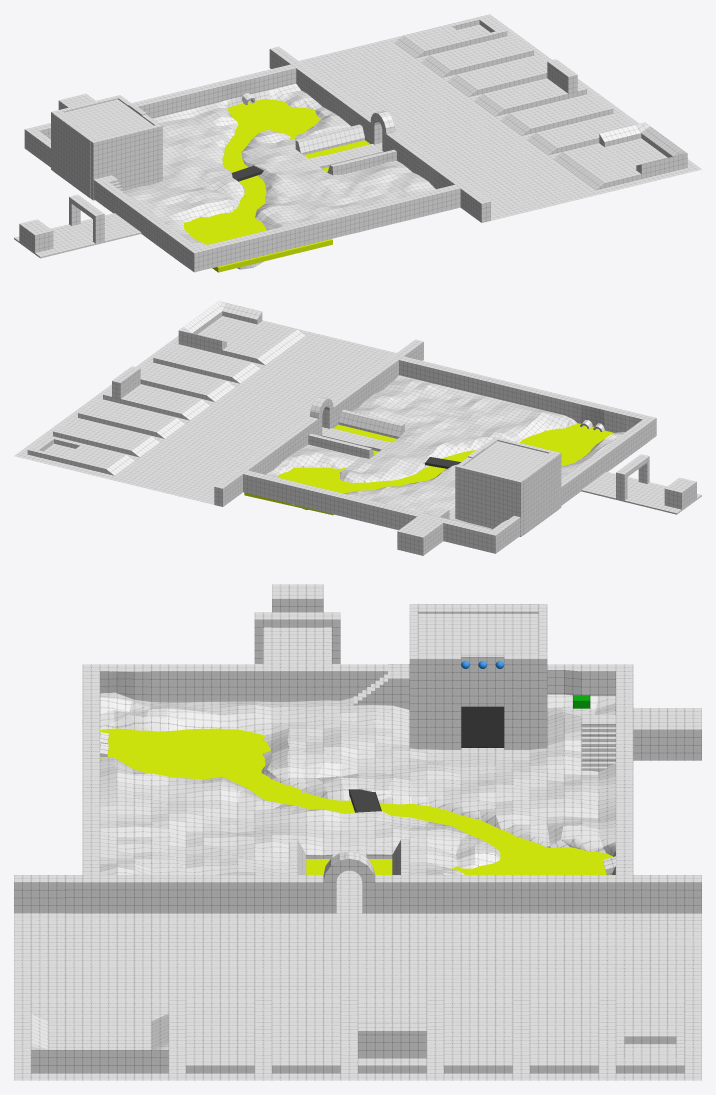
File: ExampleStage.fbx
3 renders of one model, top to bottom at view 1: azimuth 30°, elevation 25°; view 2: azimuth 150°, elevation 25°; view 3: azimuth 270°, elevation 25°, orthographic. The views are drawn at different scales.
Visible parts, largest first — view 1: Level, Block 1x1y1z (×4), Cube (×3); view 2: Level, Block 1x1y1z (×4), Cube (×3); view 3: Level, Block 1x1y1z (×7), Cube (×4), Stairs (×2), Arch.
Boxes of the visible parts, x1,y1,x2,y2 form: Level: (14,14,701,272); Block 1x1y1z (×4): (51,95,162,200); Cube (×3): (184,99,332,272); Level: (14,301,701,555); Block 1x1y1z (×4): (455,437,561,536); Cube (×3): (244,423,614,515); Level: (14,584,701,1080); Block 1x1y1z (×7): (409,604,547,749); Cube (×4): (100,706,612,874); Stairs (×2): (353,664,615,771); Arch: (323,851,375,882).
Bounding box in the file's own units: 128 × 15.32 × 80.
6 materials, 4 textured.
